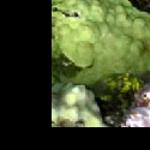alive: (61, 6, 149, 125)
